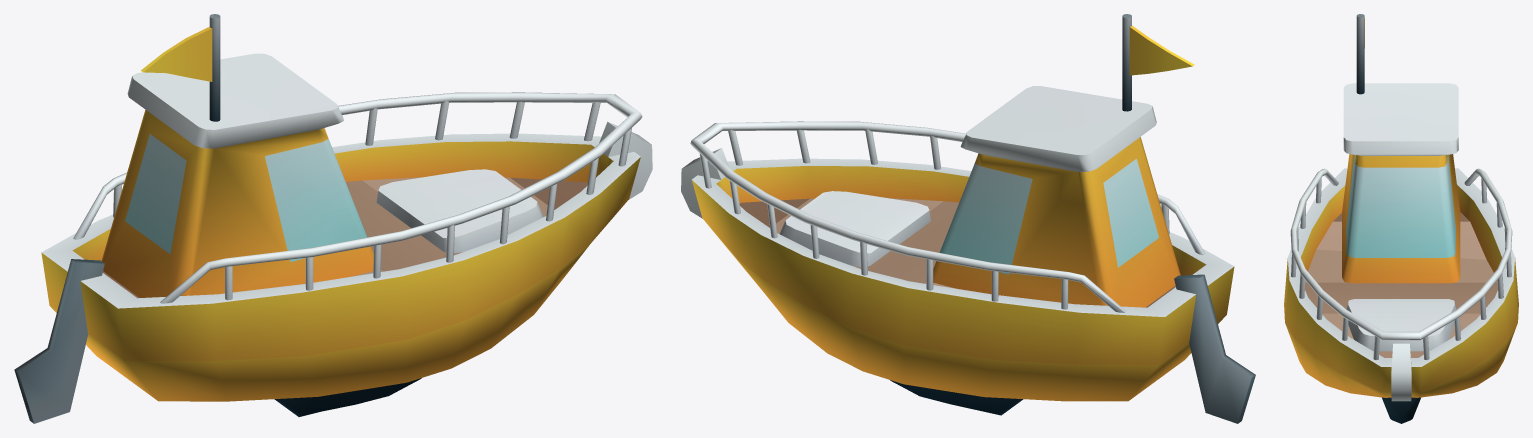
File: Asset_BoatYellow.glb
3 views of the same model, side by side, from view 1: azimuth 30°, elevation 25°; view 2: azimuth 150°, elevation 25°; view 3: azimuth 270°, elevation 25° (orthographic). The views are drawn at different scales.
Parts seen in each view (by area): view 1: Mesh.006; view 2: Mesh.006; view 3: Mesh.006.
Boxes of the visible parts, x1,y1,x2,y2 form: Mesh.006: (14, 14, 652, 423); Mesh.006: (681, 14, 1255, 423); Mesh.006: (1284, 14, 1518, 423).
Size of what is drawn, in the model's own units: 5.28 by 3.6 by 2.3.
Materials: 1 (1 with a texture image).
